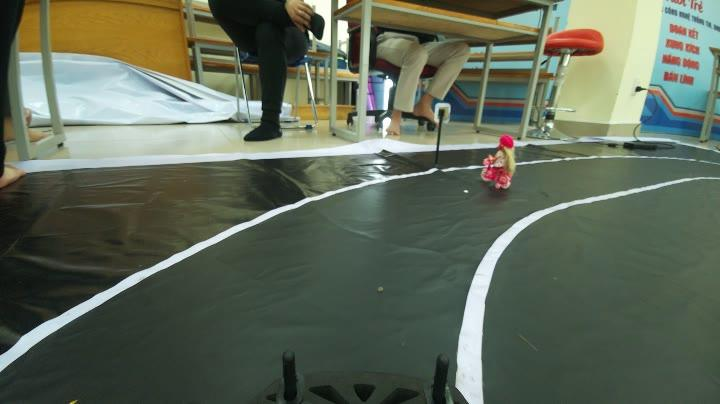pedestrian: (473, 131, 521, 198)
